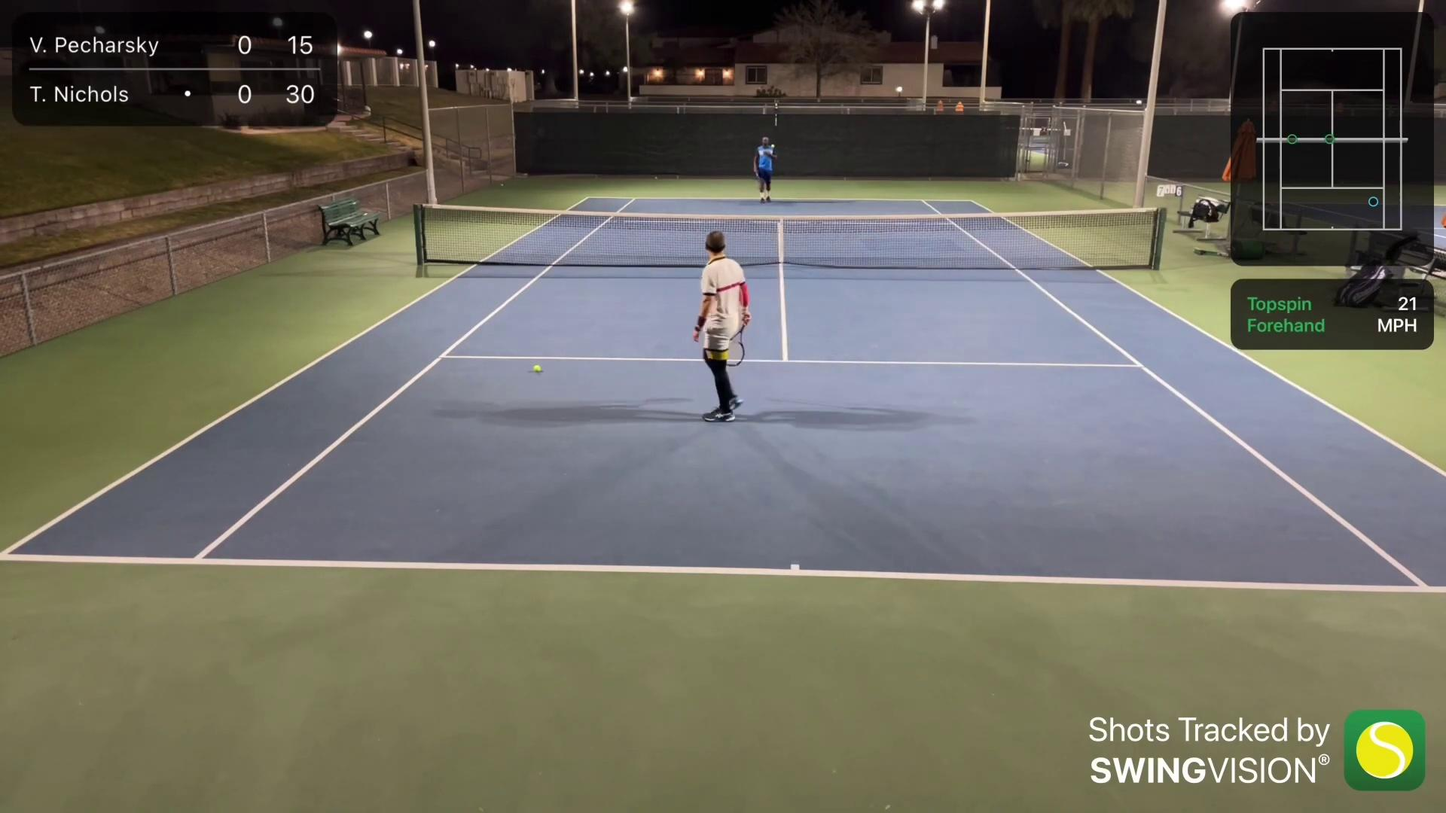ball: (531, 364, 543, 373), (770, 143, 776, 149)
